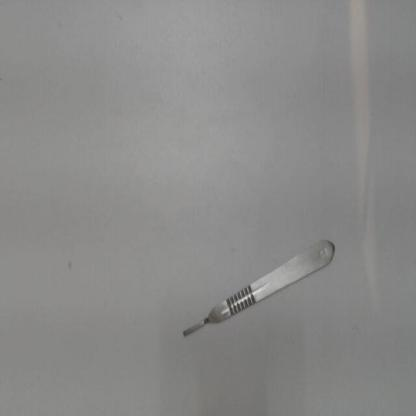No.3 BP Handle: (178, 231, 341, 345)
